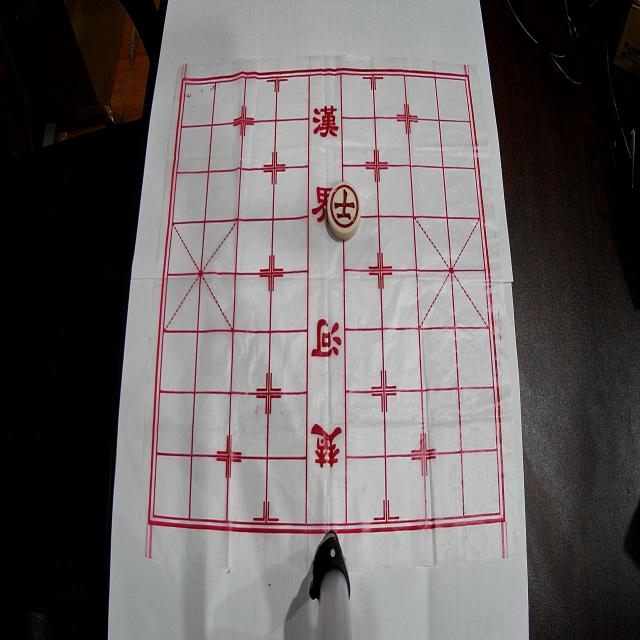red-guard: (327, 182, 361, 240)
